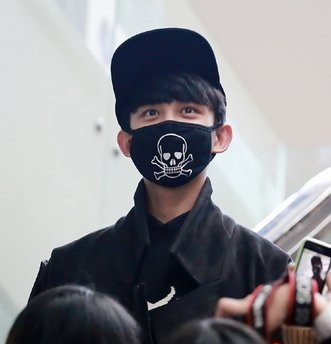face_mask: (127, 79, 214, 181)
